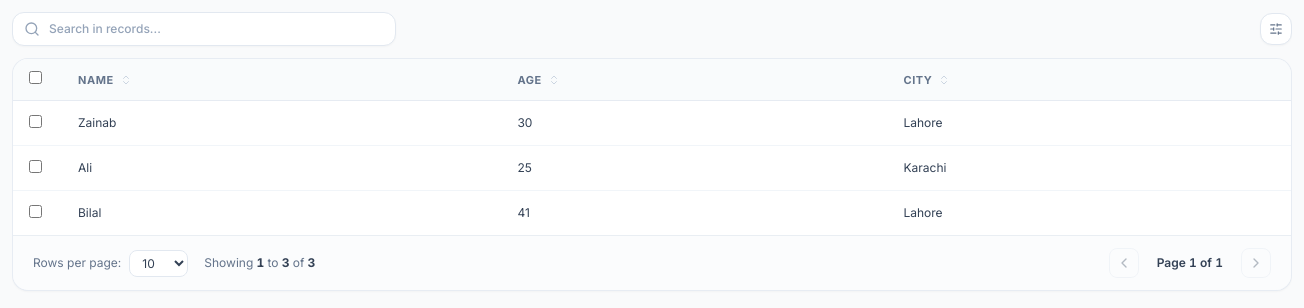
Test case: DataTable › bulk actions appear only while something is selected
The image size is (1304, 308).
Expected: the button "Delete" is not shown
Click the checkbox next to "Ali".
click(36, 166)  # box [29,160,42,172]
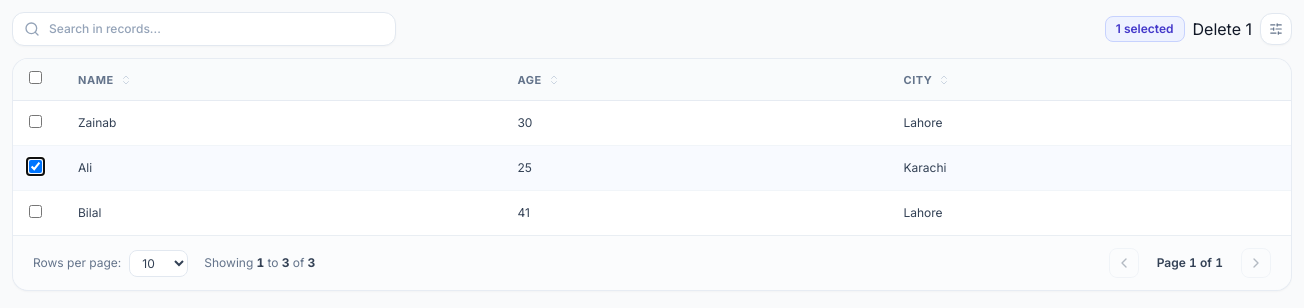
Expected: the button "Delete 1" is shown, [1192,17,1252,41]
